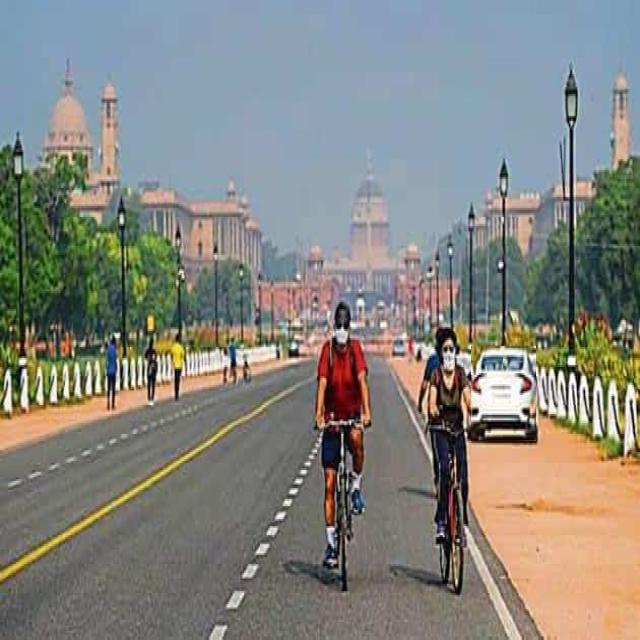bicycle: (315, 300, 371, 588), (429, 329, 477, 592)
car: (471, 347, 536, 441)
